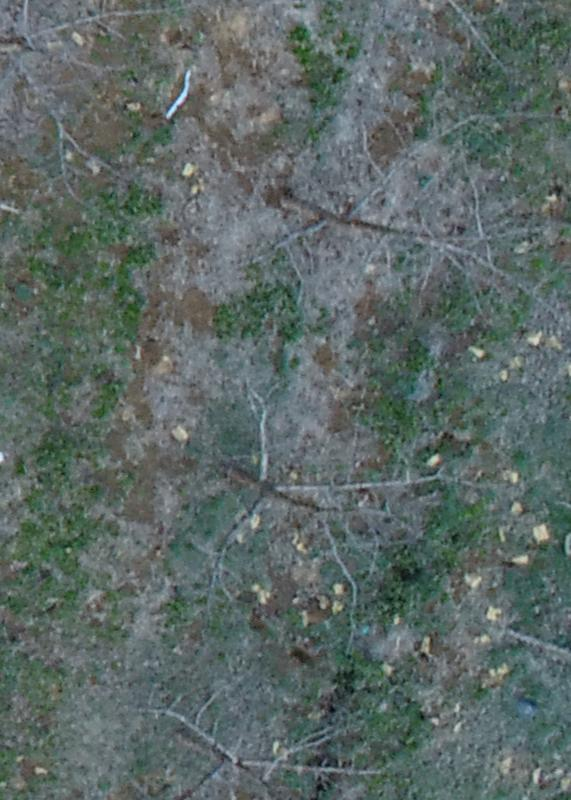apple: (147, 381, 455, 669), (240, 118, 550, 317), (114, 683, 405, 790), (10, 10, 205, 133)
